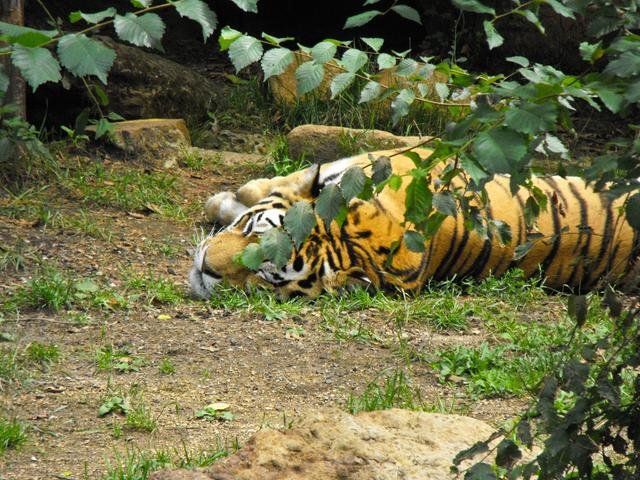tiger: (167, 104, 625, 310)
